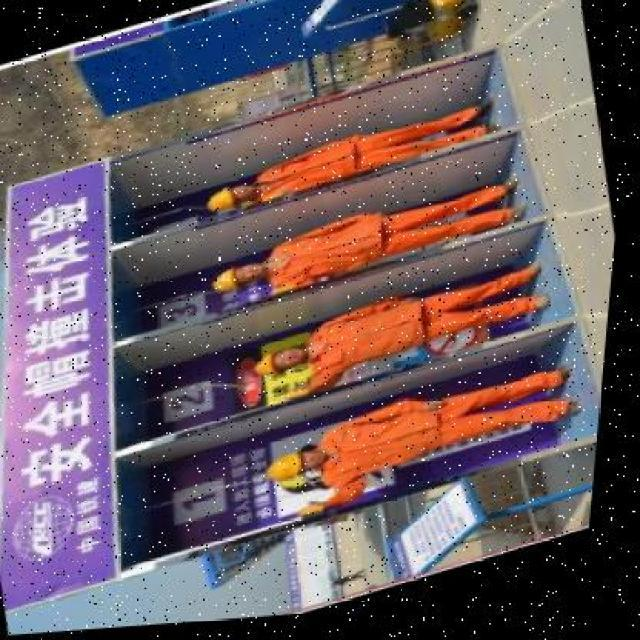helmet: (201, 182, 251, 222), (213, 265, 260, 303), (272, 454, 314, 492), (260, 348, 300, 386)
vest: (308, 296, 440, 385), (323, 406, 457, 489), (274, 225, 386, 293), (262, 141, 368, 205)
